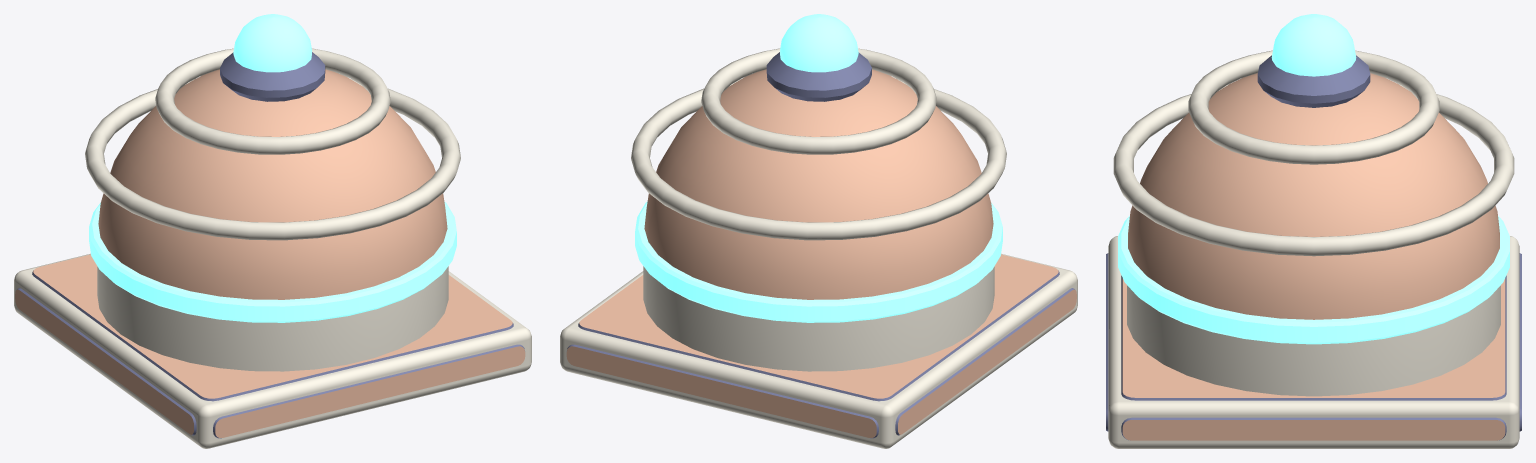
File: R4X_PersonalShield.fbx
The picture shows the model from 3 angles, left to right: view 1: azimuth 30°, elevation 25°; view 2: azimuth 150°, elevation 25°; view 3: azimuth 270°, elevation 25°; orthographic projection. The views are drawn at different scales.
Visible parts, largest first — view 1: R4X_PersonalShield_Body; view 2: R4X_PersonalShield_Body; view 3: R4X_PersonalShield_Body.
Part boxes in pixels (x1=…): R4X_PersonalShield_Body: x1=14, y1=14, x2=531, y2=448; R4X_PersonalShield_Body: x1=560, y1=14, x2=1077, y2=448; R4X_PersonalShield_Body: x1=1106, y1=14, x2=1521, y2=448.
Bounding box in the file's own units: 0.52 × 0.4831 × 0.52.
